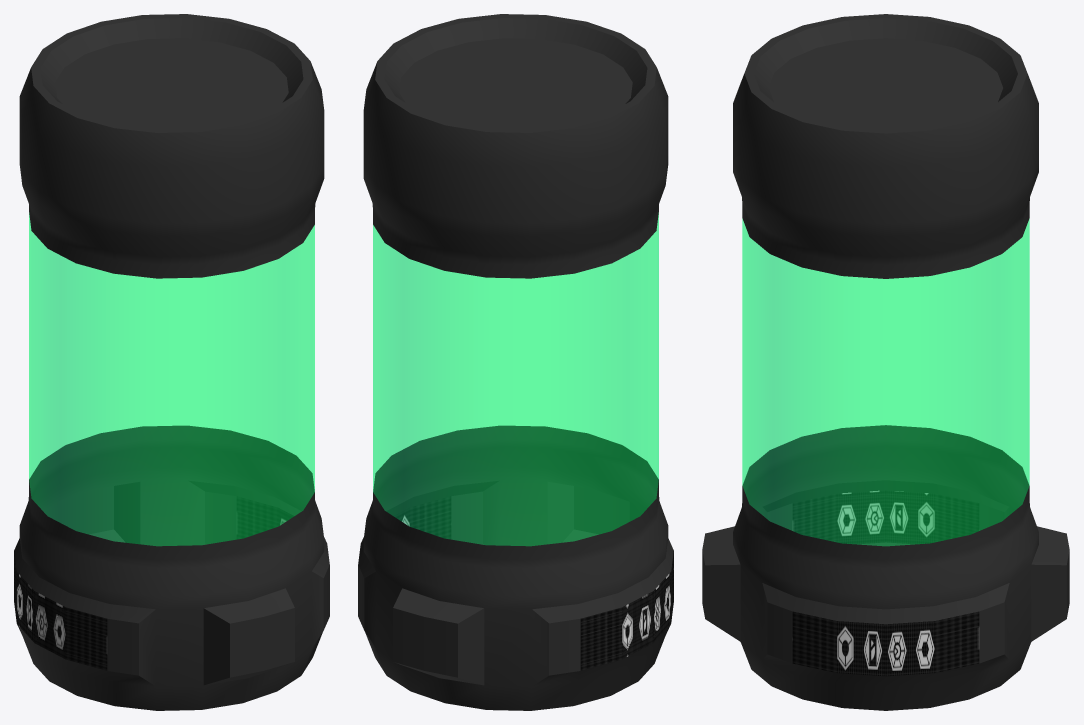
The model's file is cyro_tube_test.fbx.
3 views of the same model, side by side, from view 1: azimuth 30°, elevation 25°; view 2: azimuth 150°, elevation 25°; view 3: azimuth 270°, elevation 25° (orthographic).
Parts seen in each view (by area): view 1: Jar63; view 2: Jar63; view 3: Jar63.
Boxes of the visible parts, box(x1,y1,x2,y2) form: Jar63: box(14, 14, 329, 710); Jar63: box(358, 14, 673, 710); Jar63: box(702, 14, 1069, 710).
Size of the model in its own units: 2.39 by 4.81 by 2.77.
